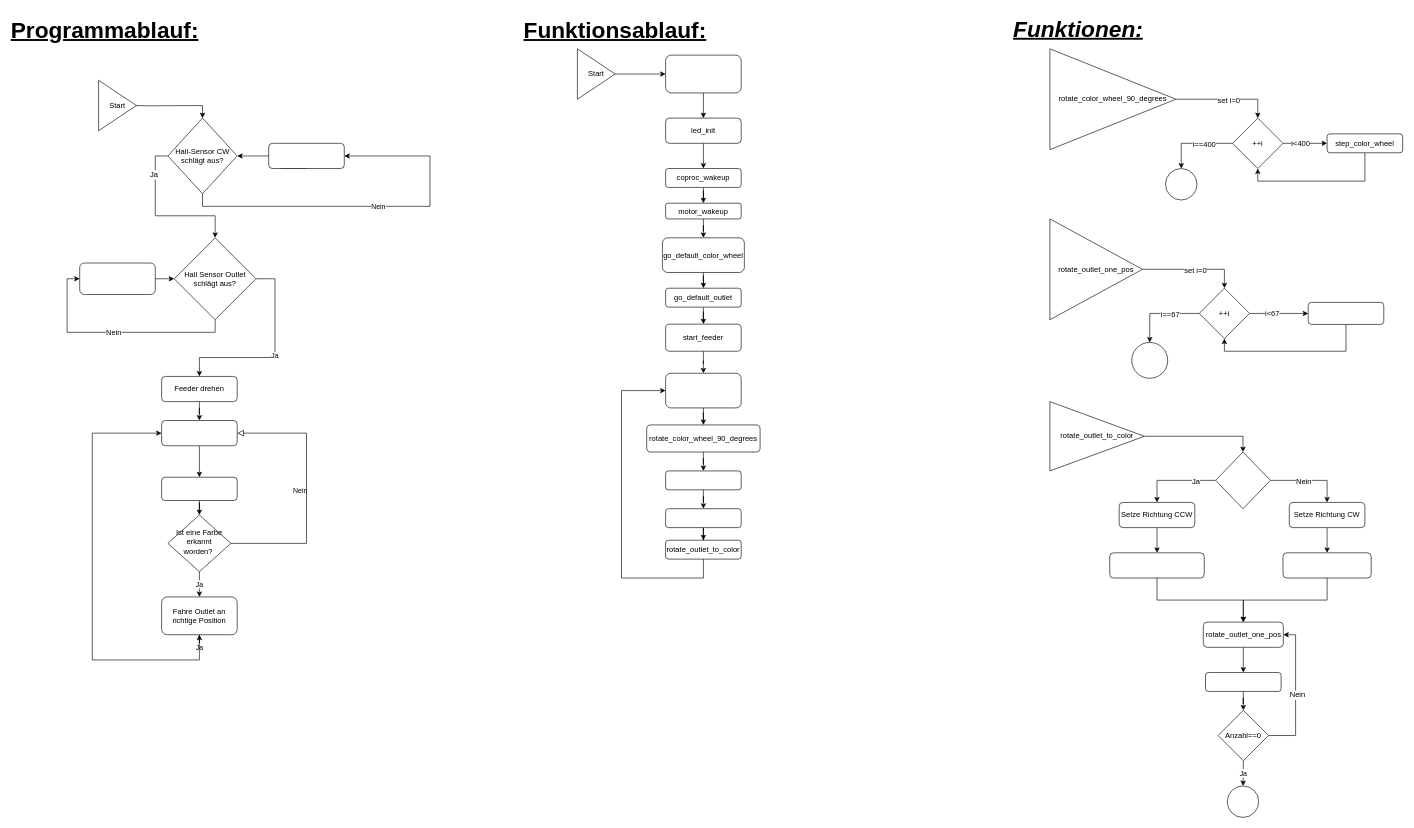
Some shapes in this 1414 by 828 pixel diagram are drawn without their labels. The shapes that lost their labels are listed below. From the top down, each one's centre as x and y in pixels, then its label:
At [703,73]: "hw_init".
At [306,156]: "ColorWheel Motor drehen".
At [117,278]: "Outlet Motor drehen".
At [1346,313]: "step_outlet".
At [703,390]: "main_loop".
At [199,433]: "ColorWheel macht einen Step".
At [199,489]: "Farbsensor liest Farbe".
At [703,480]: "wait".
At [1242,480]: "Color>Position".
At [703,518]: "read_color".
At [1156,565]: "Anzahl=Color-Position".
At [1326,565]: "Anzahl=Position-Color".
At [1243,681]: "- - Anzahl".
